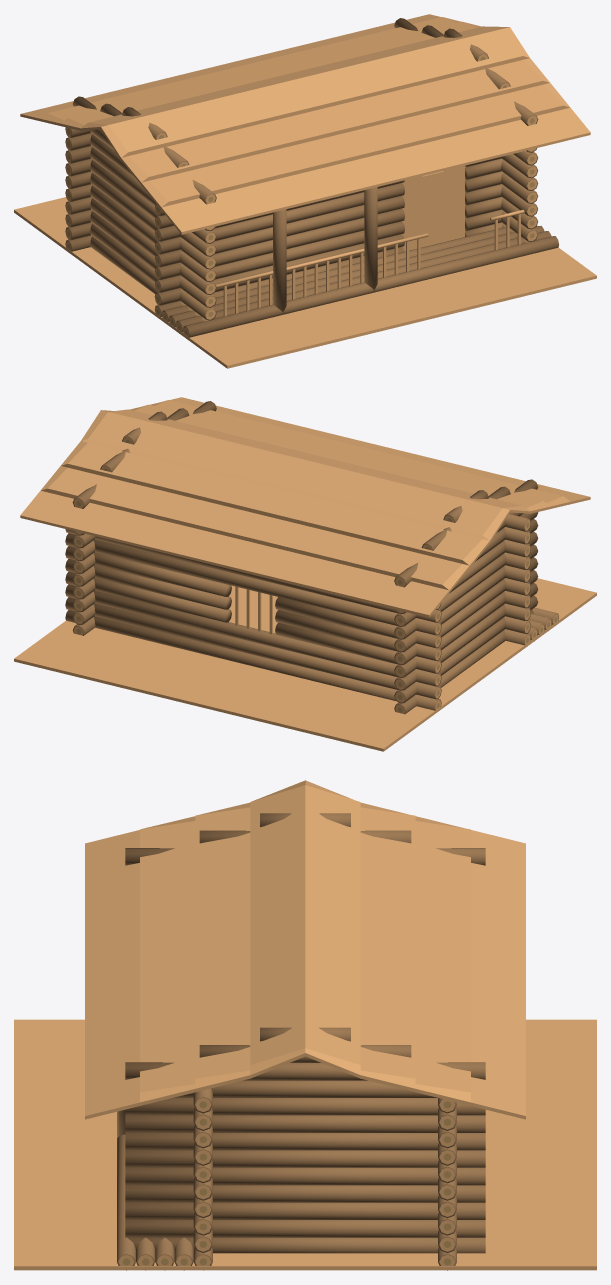
The model's file is wooden_home.gltf.
3 renders of one model, top to bottom at view 1: azimuth 30°, elevation 25°; view 2: azimuth 150°, elevation 25°; view 3: azimuth 270°, elevation 25°, orthographic. The views are drawn at different scales.
Parts seen in each view (by area): view 1: wooden_home; view 2: wooden_home; view 3: wooden_home.
Boxes of the visible parts, x1,y1,x2,y2 form: wooden_home: (14, 14, 596, 368); wooden_home: (14, 397, 596, 751); wooden_home: (14, 780, 596, 1270).
Bounding box in the file's own units: 11.15 × 4.4 × 10.07.
